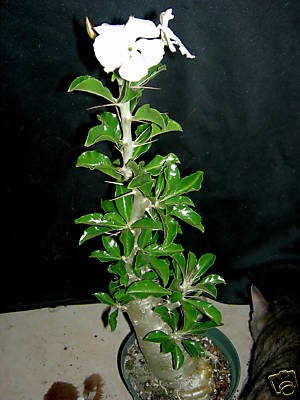Pachypodium saundersii: (45, 7, 269, 388)
